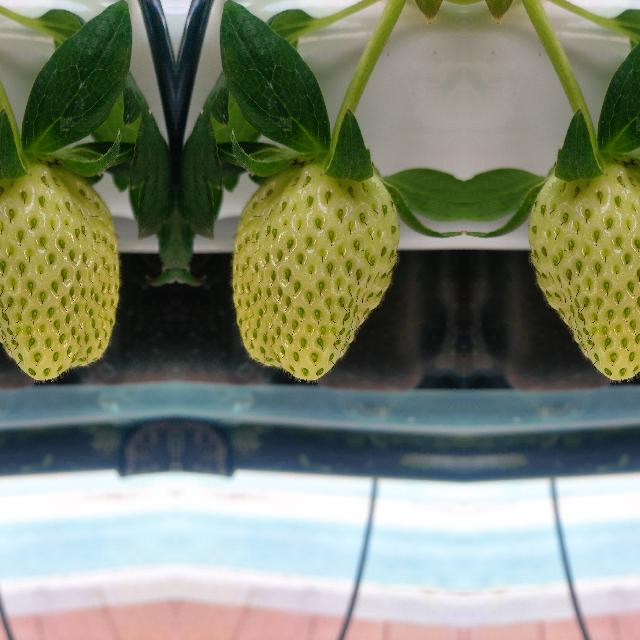Health_25: (229, 160, 399, 386), (0, 160, 121, 386), (527, 160, 640, 386)
